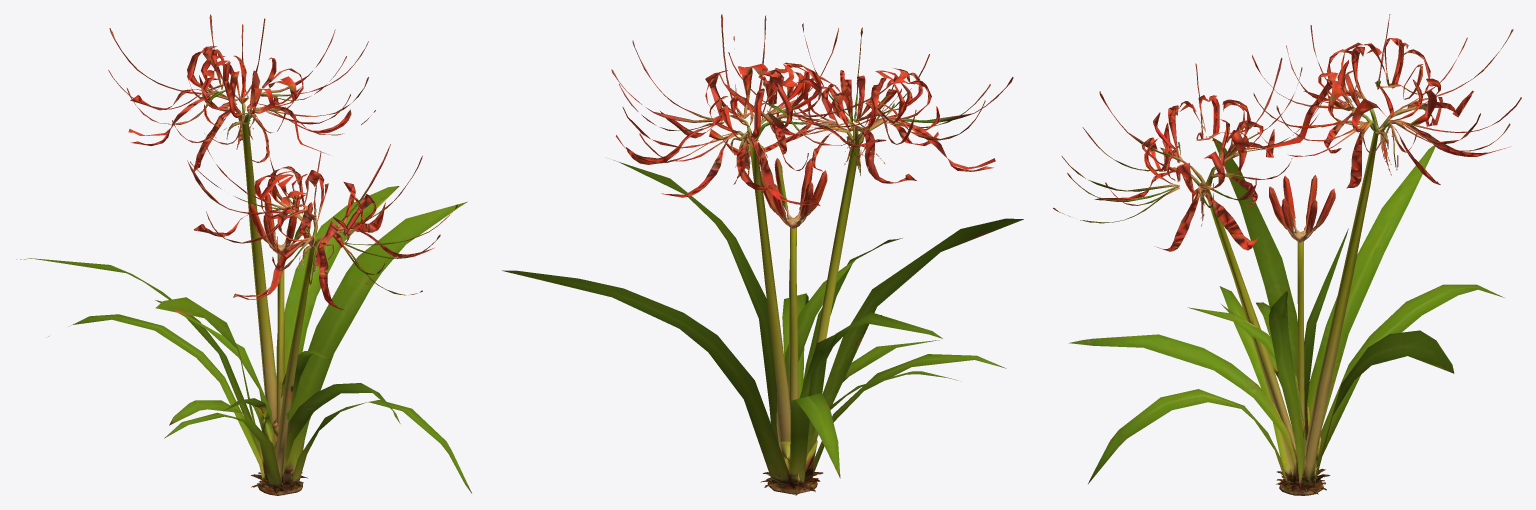
File: SanShengBiAnHua.glb
3 views of the same model, side by side, from view 1: azimuth 30°, elevation 25°; view 2: azimuth 150°, elevation 25°; view 3: azimuth 270°, elevation 25° (orthographic). The views are drawn at different scales.
Visible parts, largest first — view 1: tripo_node_7357b77f-a5b5-43ff-b9c0-d8b9f650102d; view 2: tripo_node_7357b77f-a5b5-43ff-b9c0-d8b9f650102d; view 3: tripo_node_7357b77f-a5b5-43ff-b9c0-d8b9f650102d.
Part boxes in pixels (x1,y1,x2,y2): tripo_node_7357b77f-a5b5-43ff-b9c0-d8b9f650102d: (16,14,471,495); tripo_node_7357b77f-a5b5-43ff-b9c0-d8b9f650102d: (502,14,1023,495); tripo_node_7357b77f-a5b5-43ff-b9c0-d8b9f650102d: (1053,14,1521,495).
Size of the model in its own units: 0.9805 by 0.9961 by 0.9629.
1 material, 1 textured.
